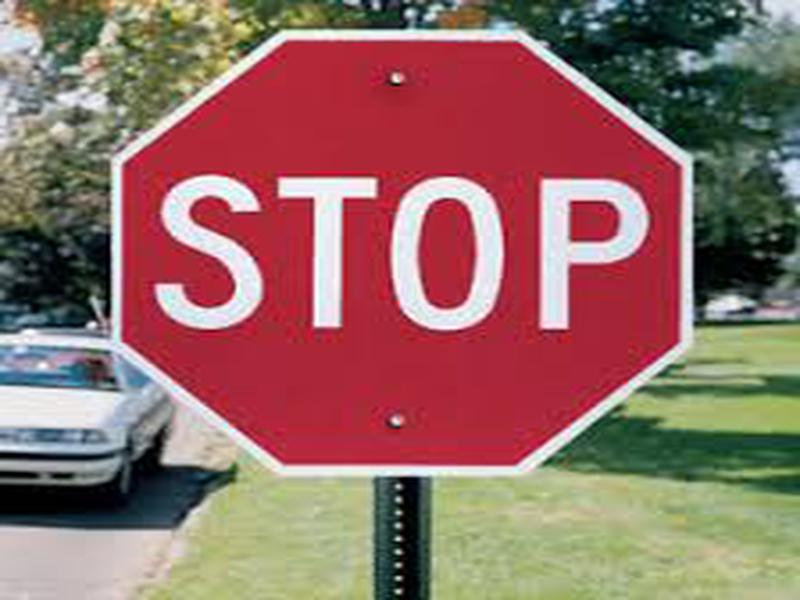stop: (108, 26, 699, 483)
